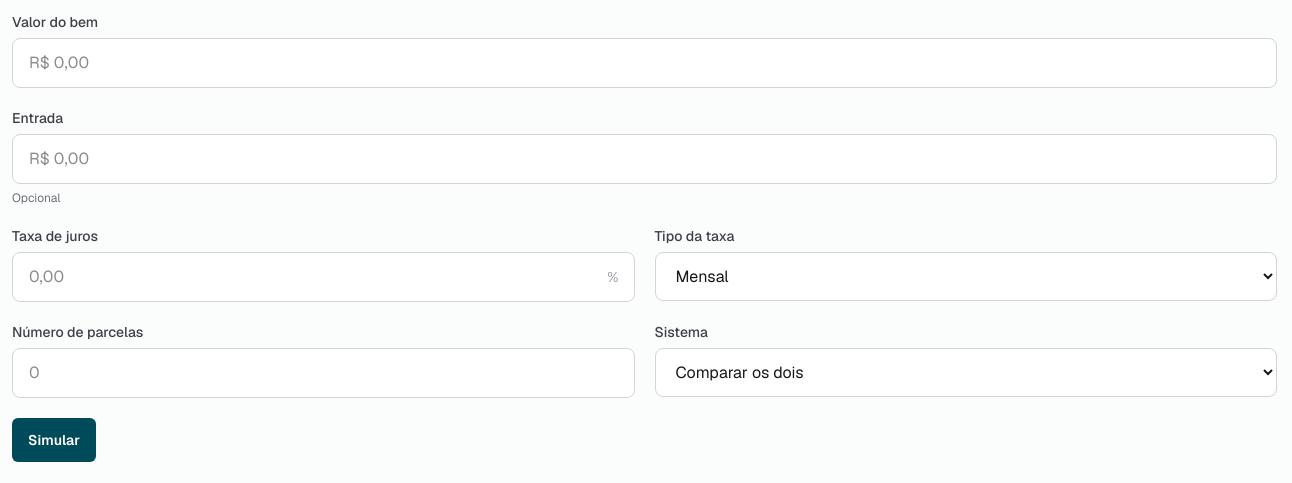
Test: FinancingForm — validações › rejeita entrada maior ou igual ao valor do bem
In the field labelled "Valor do bem": (644, 63) [12,38,1277,88], type "500000"
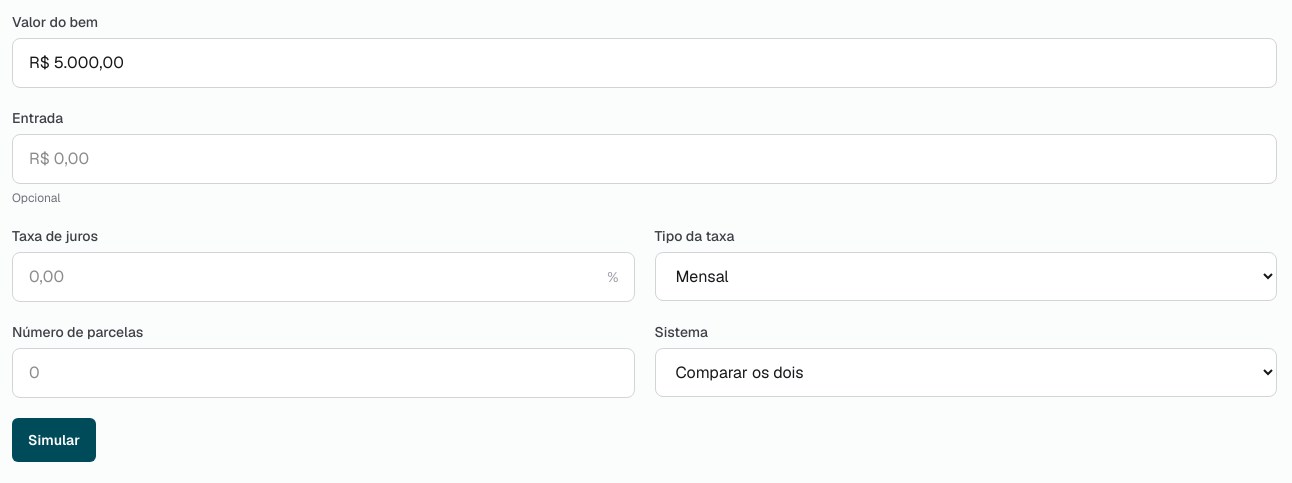
In the field labelled "Entrada": (644, 159) [12,134,1277,184], type "500000"
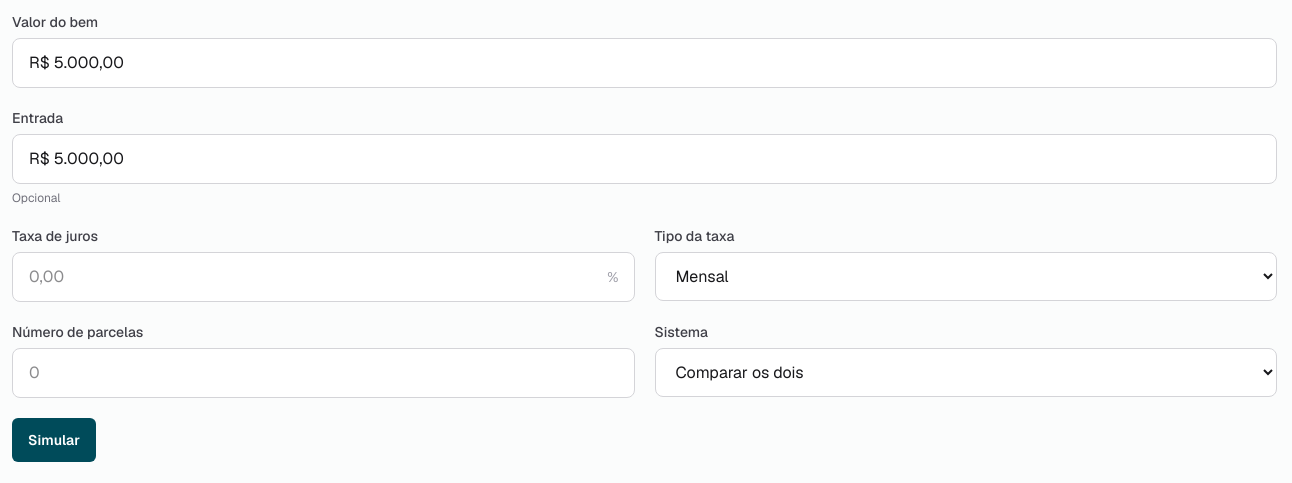
In the field labelled "Taxa de juros": (323, 277) [12,252,634,302], type "2"
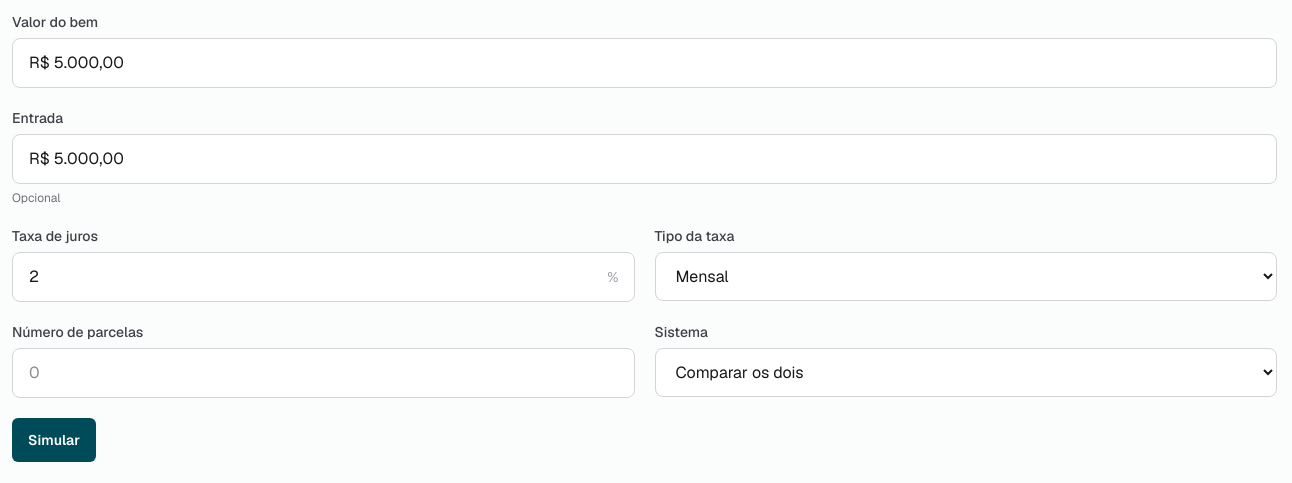
In the field labelled "Número de parcelas": (323, 373) [12,348,634,398], type "12"
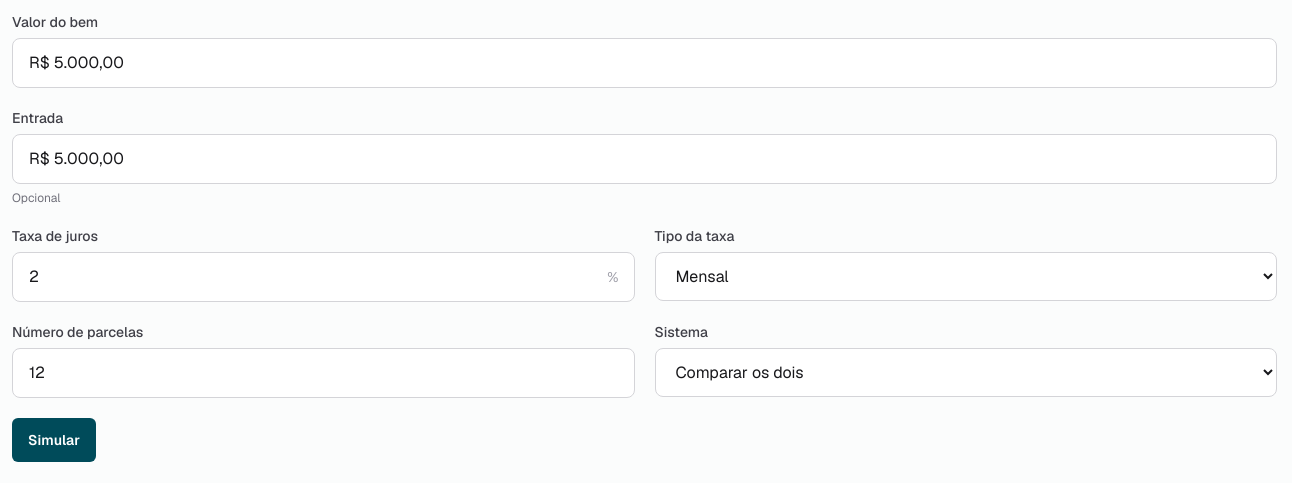
Click the button "Simular": (54, 440) [12,418,96,462]
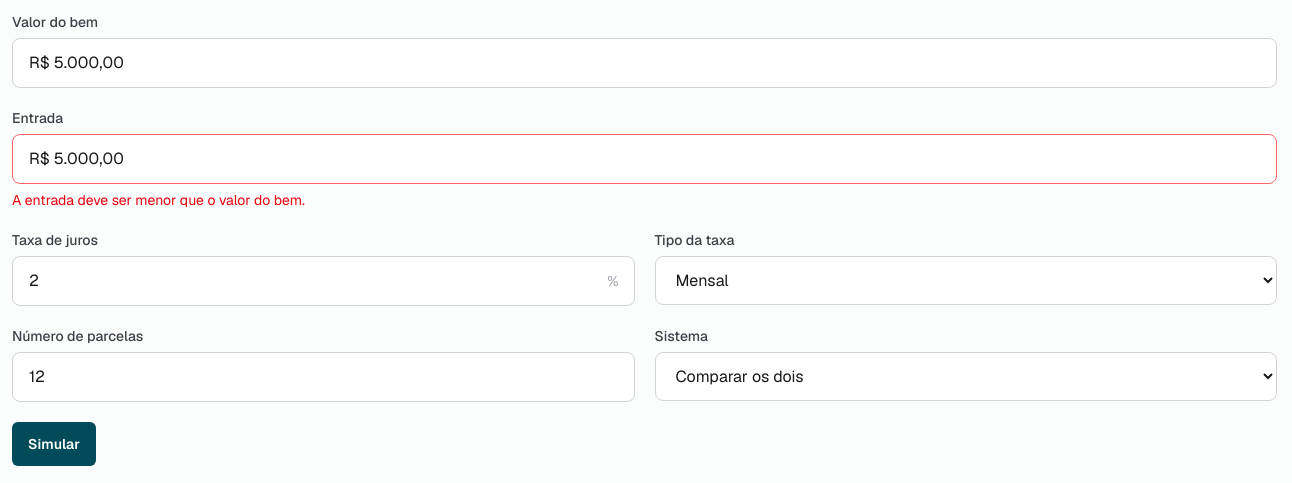
Now the text "A entrada deve ser menor que o valor do bem." is shown, box [12,191,305,209]
